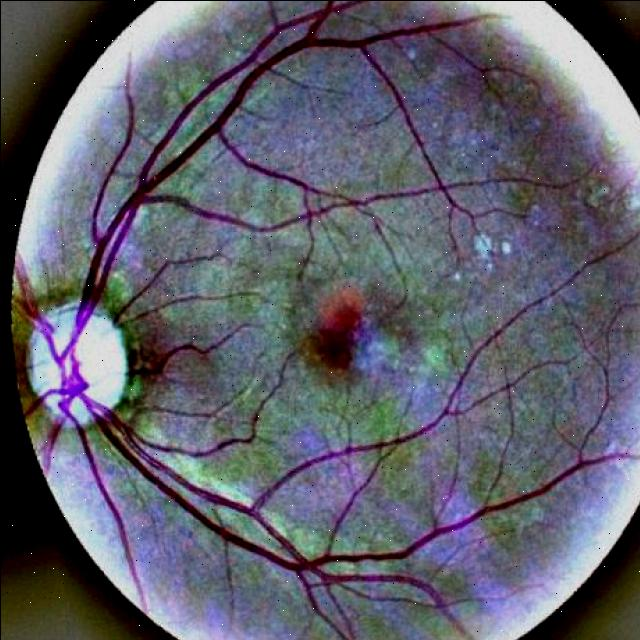Macula: (306, 306, 377, 379)
Nerves: (65, 0, 479, 332), (65, 365, 460, 640)
Optic Disk: (16, 302, 142, 431)
